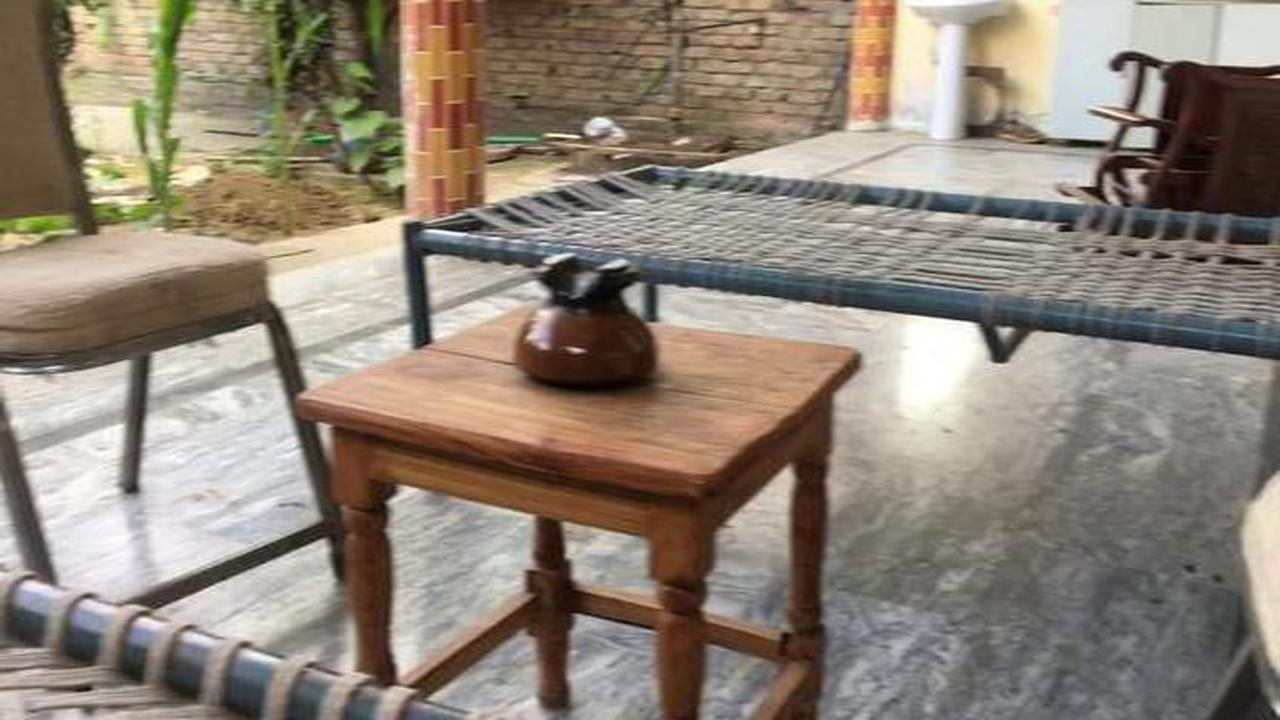insulator_pin: (505, 231, 668, 400)
